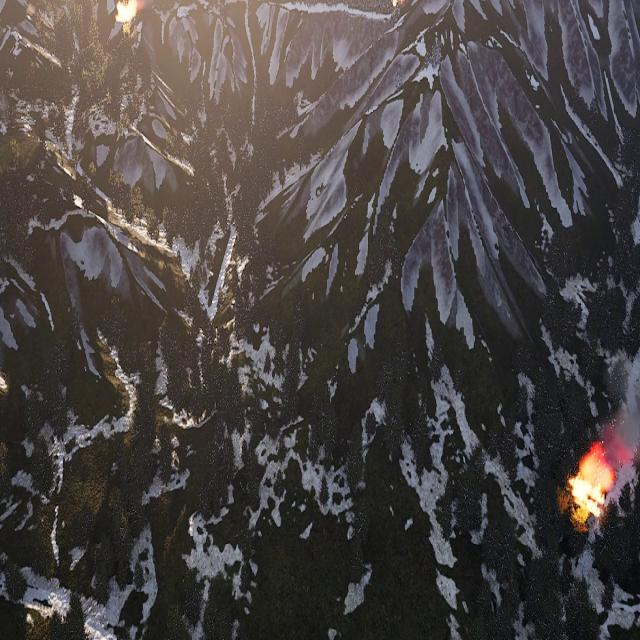fire: (571, 446, 615, 516), (115, 0, 139, 26), (391, 0, 402, 7)
smoke: (601, 407, 640, 487)
